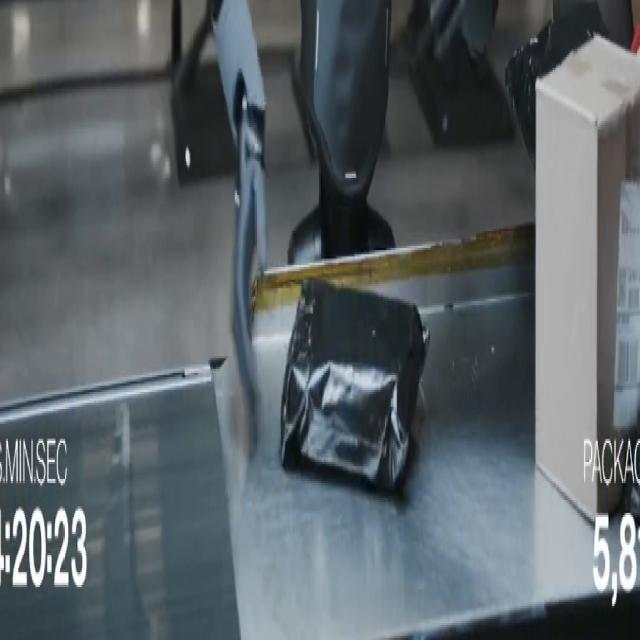package: (536, 37, 639, 519), (281, 280, 428, 491), (506, 3, 605, 163), (622, 429, 639, 525), (631, 0, 639, 25)
